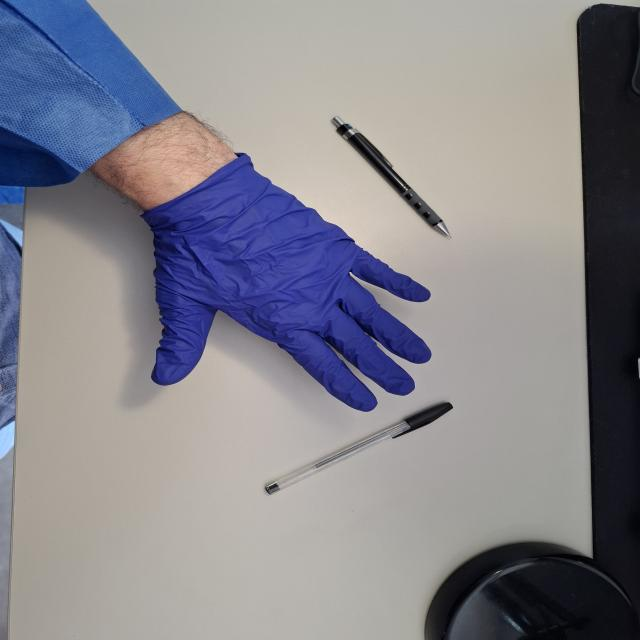glove_on: (142, 152, 437, 414)
